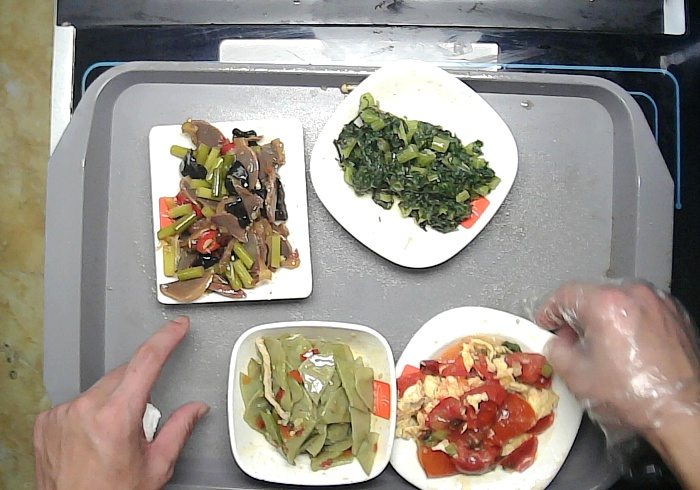SHKJ-Bai_Se_Cai_Die: (308, 59, 521, 267)
SHKJ-Bai_Se_Si_Fang_Cai_Die: (381, 303, 585, 490)
SHKJ-Bai_Se_Xiao_Fang_Die: (227, 319, 397, 486)
SHKJ-Si_Fang_Min: (147, 117, 316, 304)
